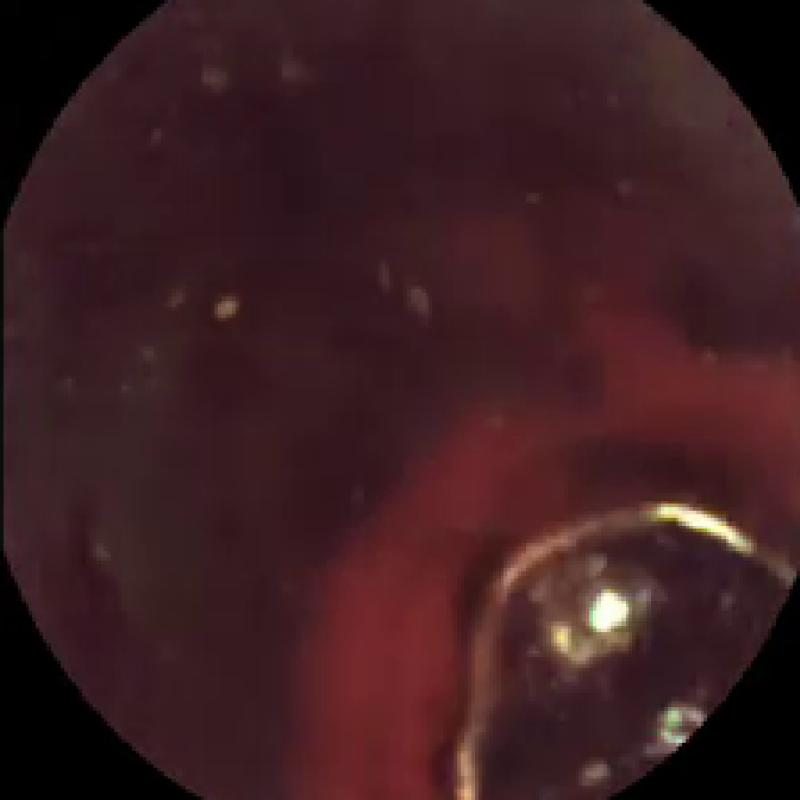bleeding: (285, 282, 800, 800)
